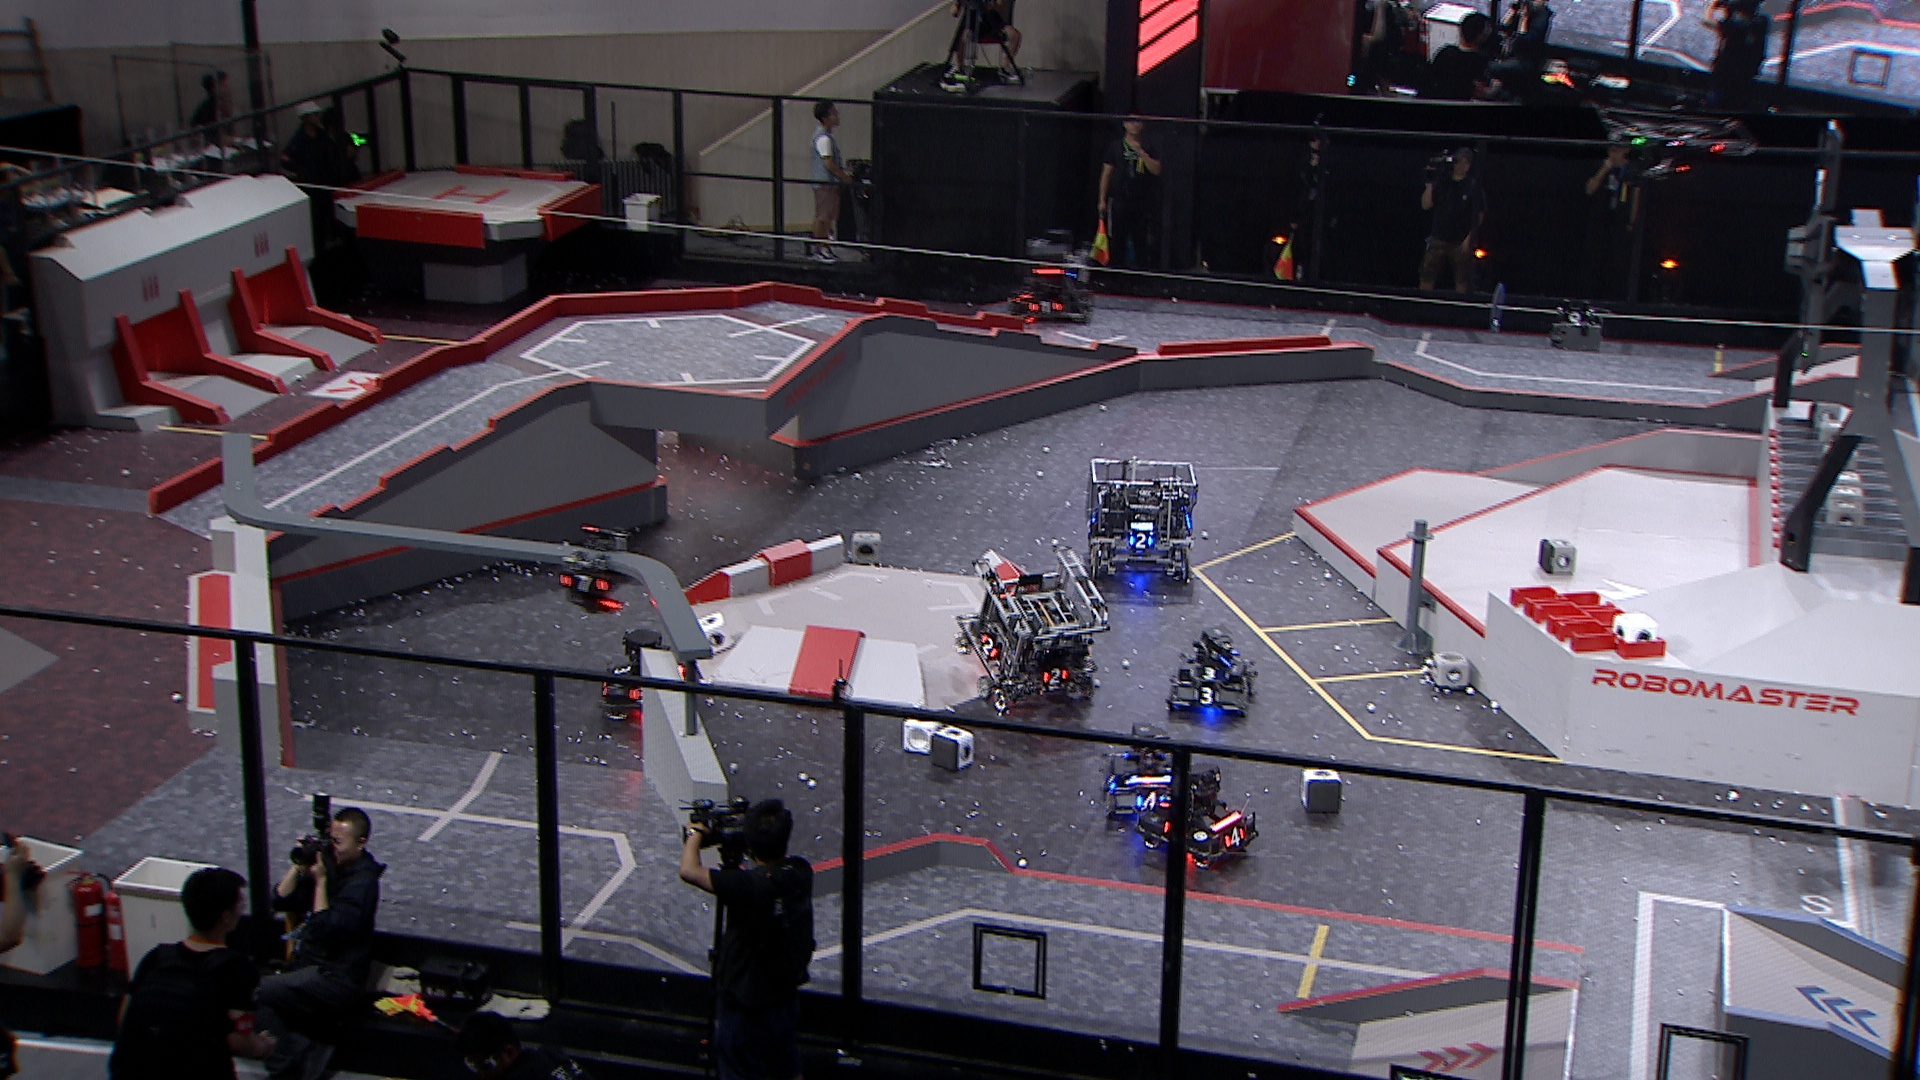armor: (560, 575, 611, 593), (1189, 665, 1230, 683), (1133, 790, 1168, 811), (1191, 687, 1222, 707), (1127, 531, 1155, 551), (1224, 825, 1245, 851), (1030, 301, 1064, 315), (978, 636, 1001, 657), (1044, 669, 1069, 687), (612, 662, 636, 679), (1240, 675, 1253, 698), (1106, 771, 1120, 793)
car: (956, 541, 1109, 713), (1087, 452, 1201, 584), (1138, 766, 1262, 868), (1102, 721, 1199, 828), (597, 626, 703, 723), (1168, 628, 1258, 717), (1010, 232, 1093, 327)
watcher: (556, 524, 632, 615)
